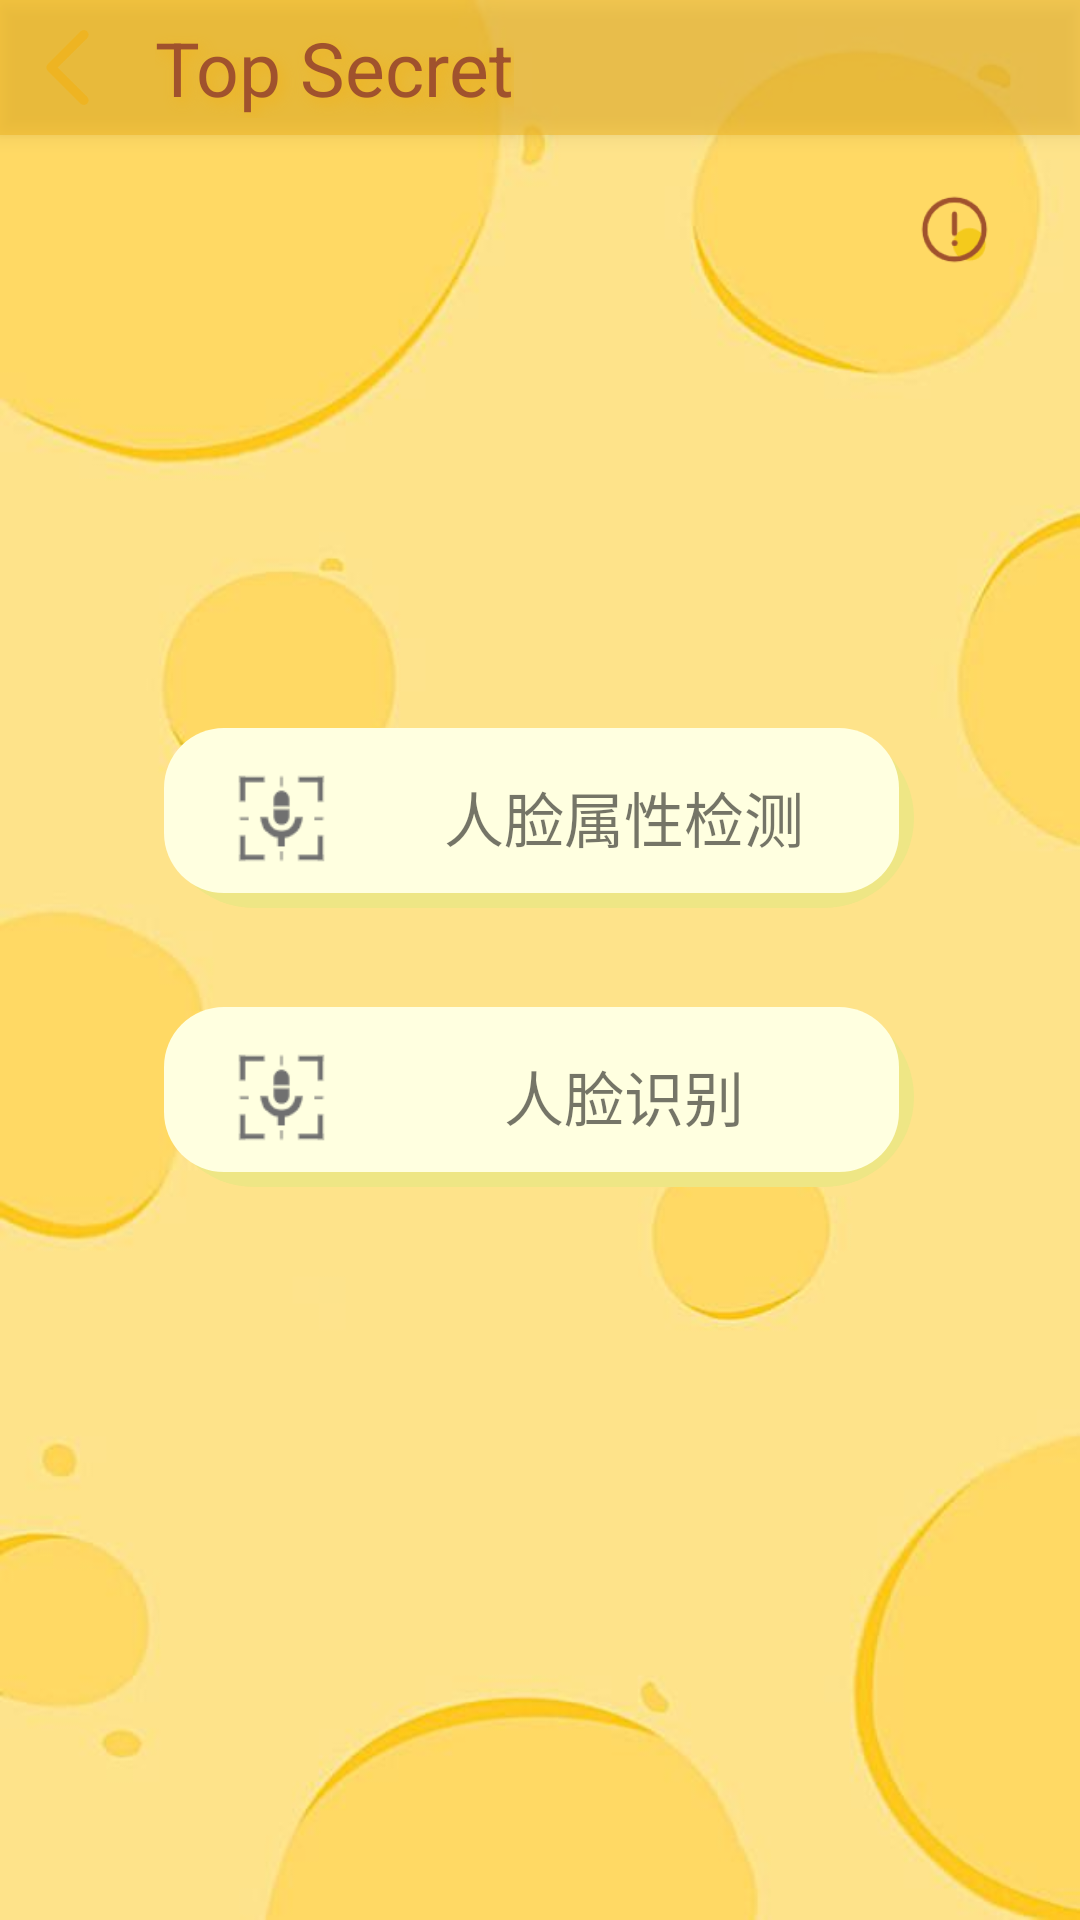

Icon bounding boxes for this 1080 x 1920 phone screenshot, format (x1, y1, x2, y2):
reminder: (922, 197, 987, 262)
select voice: (239, 776, 324, 861), (239, 1055, 324, 1140)
title back: (47, 31, 88, 104)
